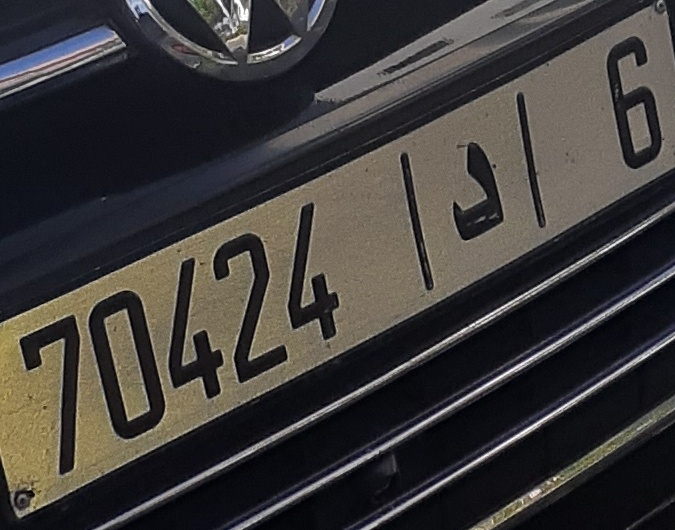0: (86, 287, 168, 441)
2: (209, 226, 291, 385)
4: (161, 256, 228, 403), (281, 201, 347, 342)
6: (599, 34, 668, 173)
7: (15, 314, 84, 479)
d: (447, 138, 511, 243)
